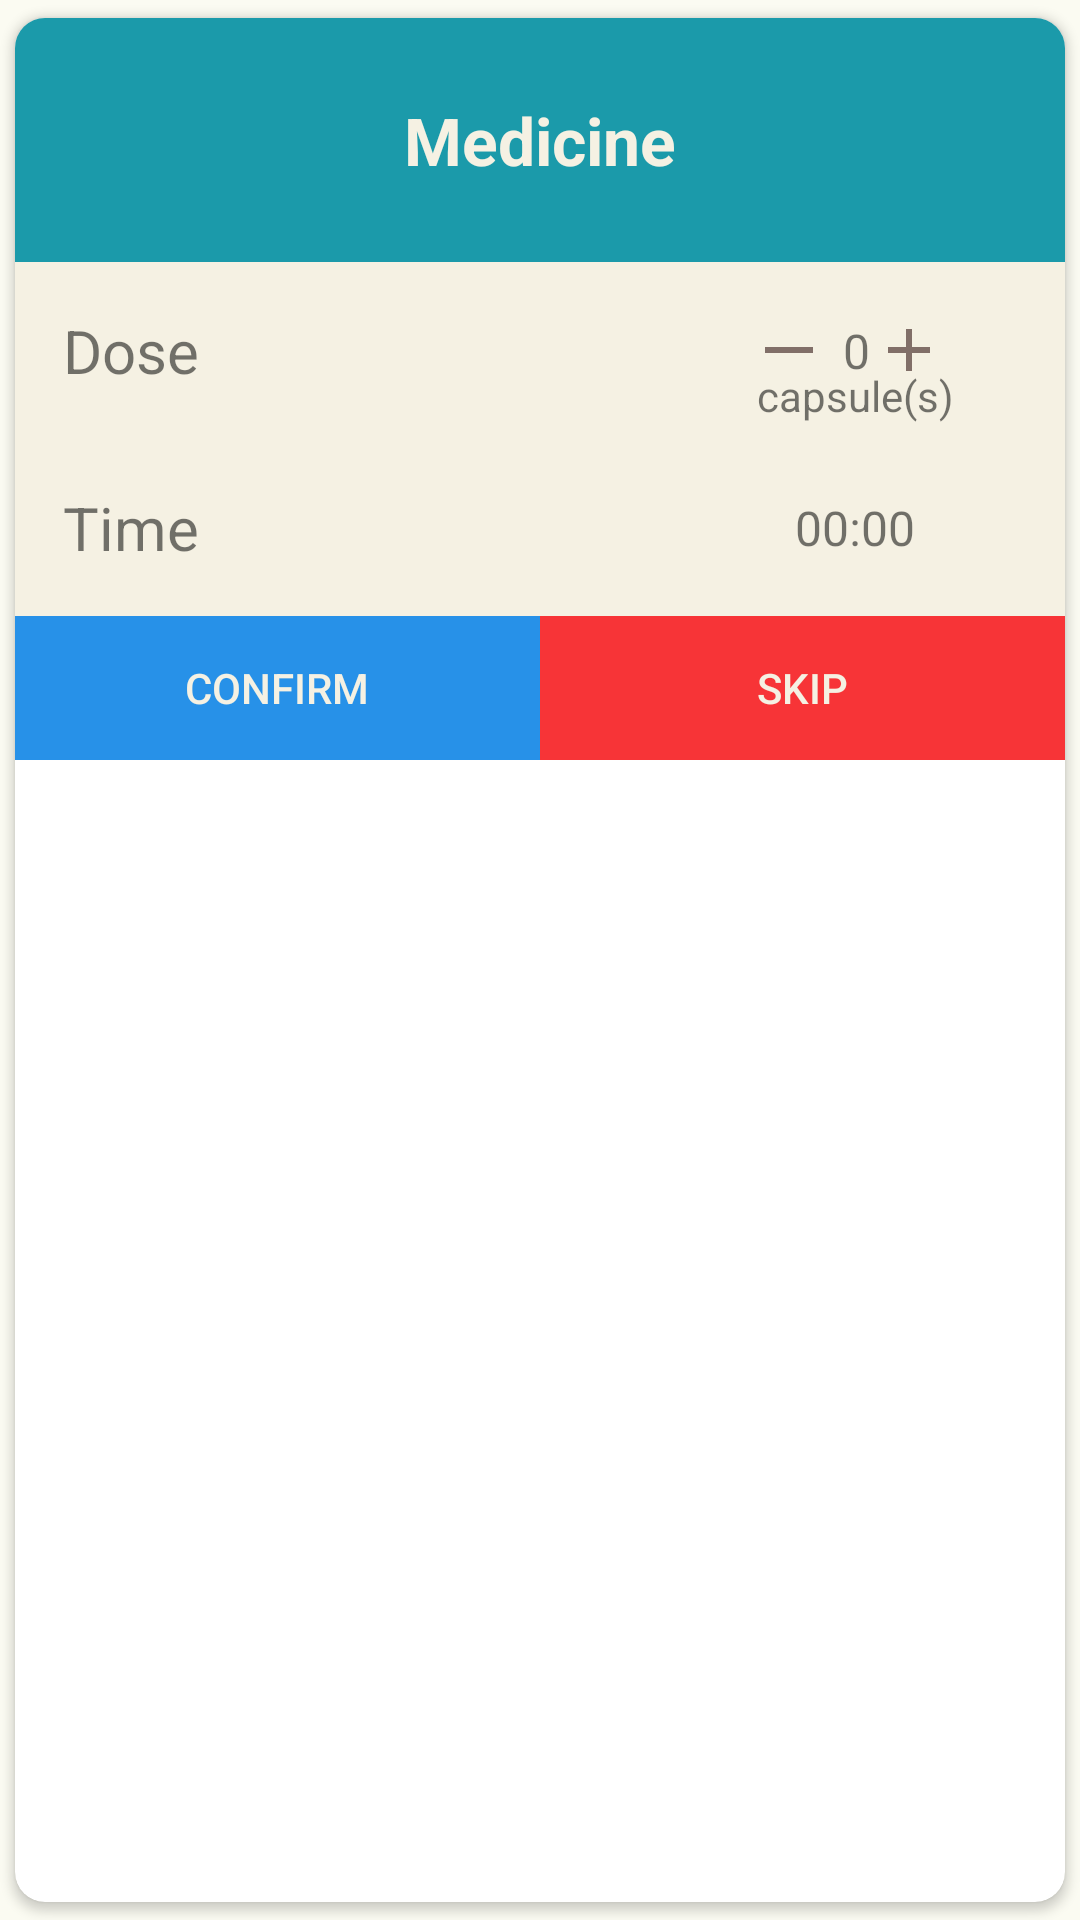

Screen size 1080w x 1920h. Icon name, then its box in pixels as (x1, y1, x2, y2):
add: (888, 329, 930, 371)
